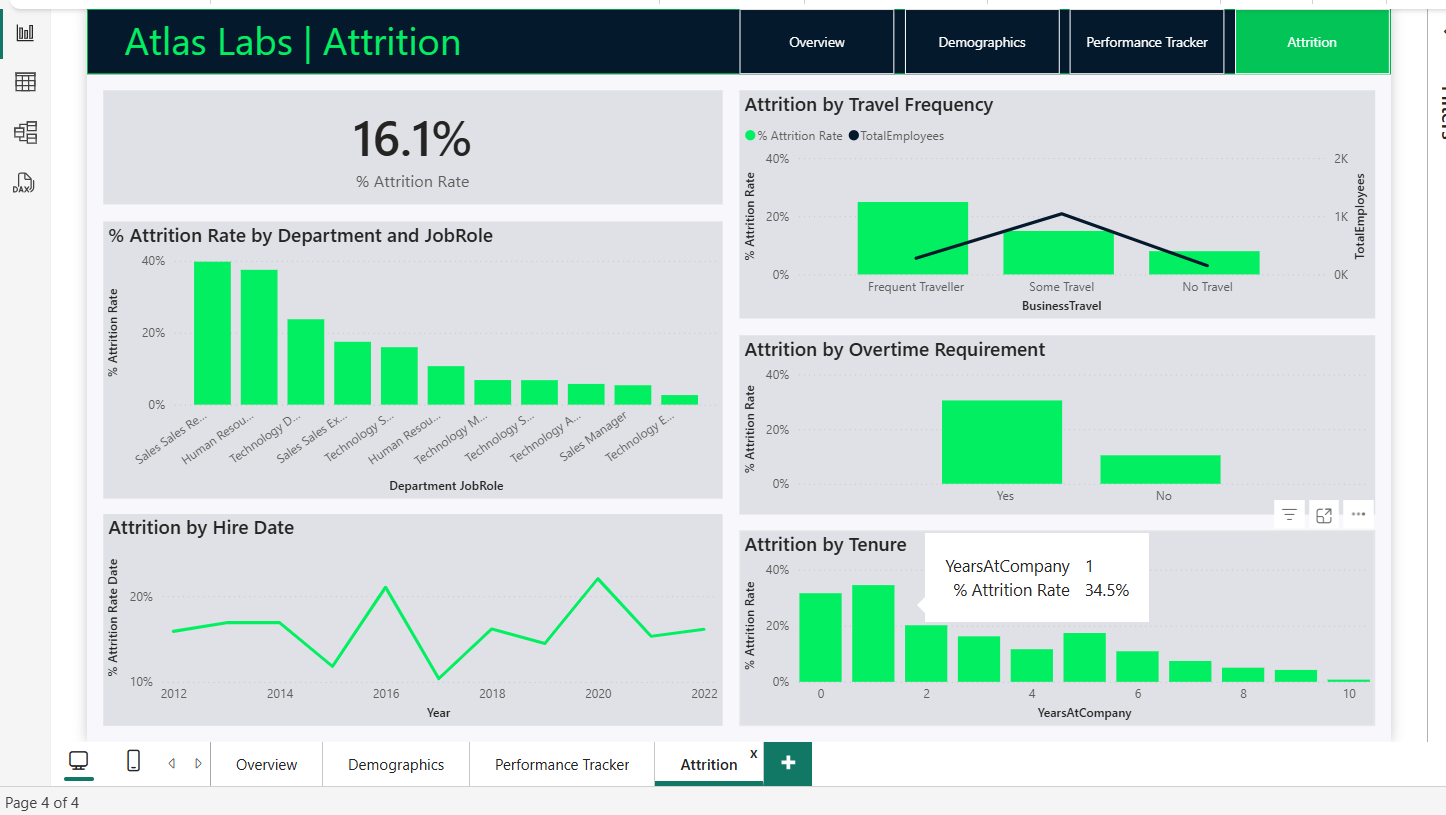

This screenshot's page, from the dashboard's own definition file:
{"tool":"powerbi","page":{"name":"Attrition","canvas":[1280,720],"ordinal":3},"visuals":[{"type":"card","fields":{"Values":["_Measures.% Attrition Rate"]},"box":[16,80,608,112],"z":0},{"type":"columnChart","fields":{"Category":["DimEmployee.Department","DimEmployee.JobRole"],"Y":["_Measures.% Attrition Rate"]},"box":[16,208,608,272],"z":1000},{"type":"lineChart","title":"Attrition by Hire Date","fields":{"Y":["_Measures.% Attrition Rate Date"],"Category":["DimDate.Date.Variation.Date Hierarchy.Year","DimDate.Date.Variation.Date Hierarchy.Quarter","DimDate.Date.Variation.Date Hierarchy.Month","DimDate.Date.Variation.Date Hierarchy.Day"]},"box":[16,496,608,208],"z":2000},{"type":"lineStackedColumnComboChart","title":"Attrition by Travel Frequency","fields":{"Y":["_Measures.% Attrition Rate"],"Category":["DimEmployee.BusinessTravel"],"Y2":["_Measures.TotalEmployees"]},"box":[640,80,624,224],"z":3000},{"type":"columnChart","title":"Attrition by Overtime Requirement","fields":{"Category":["DimEmployee.OverTime"],"Y":["_Measures.% Attrition Rate"]},"box":[640,320,624,176],"z":4000},{"type":"columnChart","title":"Attrition by Tenure","fields":{"Category":["DimEmployee.YearsAtCompany"],"Y":["_Measures.% Attrition Rate"]},"box":[640,512,624,192],"z":5000},{"type":"shape","box":[0,0,1280,64],"z":6000},{"type":"textbox","box":[32,0,624,64],"z":7000},{"type":"pageNavigator","box":[640,0,640,64],"z":8000}]}

Visuals, with their boxes on the page's 1280x720 design canvas (x1, y1, x2, y2). These are canvas units, not pixel positions in the 1446x815 screenshot, which may show the page scaled, cropped or inside an application window:
card - _Measures.% Attrition Rate: <bbox>16, 80, 624, 192</bbox>
columnChart - DimEmployee.Department x DimEmployee.JobRole: <bbox>16, 208, 624, 480</bbox>
"Attrition by Hire Date" lineChart: <bbox>16, 496, 624, 704</bbox>
"Attrition by Travel Frequency" lineStackedColumnComboChart: <bbox>640, 80, 1264, 304</bbox>
"Attrition by Overtime Requirement" columnChart: <bbox>640, 320, 1264, 496</bbox>
"Attrition by Tenure" columnChart: <bbox>640, 512, 1264, 704</bbox>
shape: <bbox>0, 0, 1280, 64</bbox>
textbox: <bbox>32, 0, 656, 64</bbox>
pageNavigator: <bbox>640, 0, 1280, 64</bbox>
